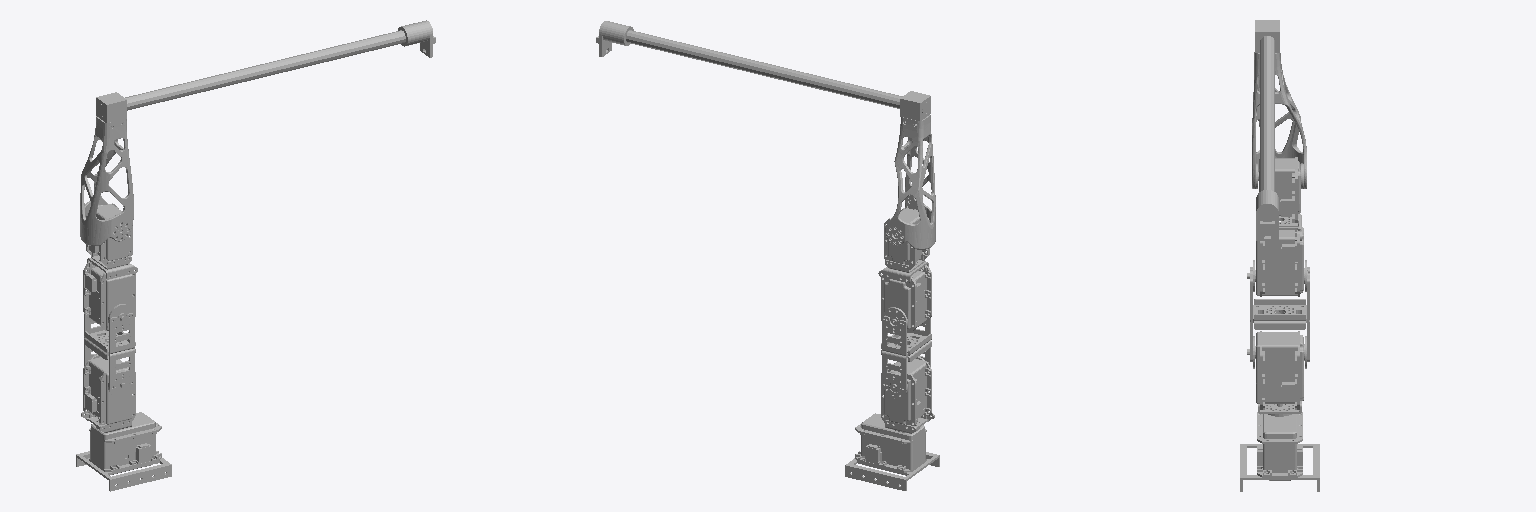
The robot description file, URDF, robot "arm_hit":
<robot
  name="arm_hit">
  <link
    name="base">
    <inertial>
      <origin
        xyz="0.01588 3.1806E-06 -0.028164"
        rpy="0 0 0" />
      <mass
        value="0.17459" />
      <inertia
        ixx="8.5226E-06"
        ixy="8.4436E-11"
        ixz="4.9378E-07"
        iyy="8.5512E-06"
        iyz="-1.4574E-09"
        izz="2.8609E-08" />
    </inertial>
    <visual>
      <origin
        xyz="0 0 0"
        rpy="0 0 0" />
      <geometry>
        <mesh
          filename="package://arm_hit/meshes/base.STL" />
      </geometry>
      <material
        name="">
        <color
          rgba="0.75294 0.75294 0.75294 1" />
      </material>
    </visual>
    <collision>
      <origin
        xyz="0 0 0"
        rpy="0 0 0" />
      <geometry>
        <mesh
          filename="package://arm_hit/meshes/base.STL" />
      </geometry>
    </collision>
  </link>
  <link
    name="shoulder">
    <inertial>
      <origin
        xyz="-6.0765E-05 0.00021493 -0.016589"
        rpy="0 0 0" />
      <mass
        value="0.13726" />
      <inertia
        ixx="1.1177E-05"
        ixy="-1.8757E-09"
        ixz="-2.7364E-07"
        iyy="9.2082E-06"
        iyz="-1.3785E-06"
        izz="1.9865E-06" />
    </inertial>
    <visual>
      <origin
        xyz="0 0 0"
        rpy="0 0 0" />
      <geometry>
        <mesh
          filename="package://arm_hit/meshes/shoulder.STL" />
      </geometry>
      <material
        name="">
        <color
          rgba="0.75294 0.75294 0.75294 1" />
      </material>
    </visual>
    <collision>
      <origin
        xyz="0 0 0"
        rpy="0 0 0" />
      <geometry>
        <mesh
          filename="package://arm_hit/meshes/shoulder.STL" />
      </geometry>
    </collision>
  </link>
  <joint
    name="j_shoulder"
    type="revolute">
    <origin
      xyz="0 1E-05 0.052"
      rpy="-5.6285E-14 6.7794E-15 3.3477E-14" />
    <parent
      link="base" />
    <child
      link="shoulder" />
    <axis
      xyz="0 0 1" />
    <limit
      effort="0"
      velocity="0" />
  </joint>
  <link
    name="elbow">
    <inertial>
      <origin
        xyz="-4.6144E-15 -7.9797E-17 0.036"
        rpy="0 0 0" />
      <mass
        value="0.035763" />
      <inertia
        ixx="3.8448E-06"
        ixy="-3.501E-31"
        ixz="4.7946E-19"
        iyy="3.8448E-06"
        iyz="2.8076E-18"
        izz="2.1099E-30" />
    </inertial>
    <visual>
      <origin
        xyz="0 0 0"
        rpy="0 0 0" />
      <geometry>
        <mesh
          filename="package://arm_hit/meshes/elbow.STL" />
      </geometry>
      <material
        name="">
        <color
          rgba="0.75294 0.75294 0.75294 1" />
      </material>
    </visual>
    <collision>
      <origin
        xyz="0 0 0"
        rpy="0 0 0" />
      <geometry>
        <mesh
          filename="package://arm_hit/meshes/elbow.STL" />
      </geometry>
    </collision>
  </link>
  <joint
    name="j_elbow"
    type="revolute">
    <origin
      xyz="0 -1E-05 0"
      rpy="6.1701E-14 1.1357E-13 -1.486E-14" />
    <parent
      link="shoulder" />
    <child
      link="elbow" />
    <axis
      xyz="0 1 0" />
    <limit
      effort="0"
      velocity="0" />
  </joint>
  <link
    name="wrist">
    <inertial>
      <origin
        xyz="-3.7123E-05 0.00015978 0.04"
        rpy="0 0 0" />
      <mass
        value="0.21454" />
      <inertia
        ixx="0.00022441"
        ixy="3.6611E-11"
        ixz="6.8193E-07"
        iyy="0.00022139"
        iyz="1.8251E-06"
        izz="3.0552E-06" />
    </inertial>
    <visual>
      <origin
        xyz="0 0 0"
        rpy="0 0 0" />
      <geometry>
        <mesh
          filename="package://arm_hit/meshes/wrist.STL" />
      </geometry>
      <material
        name="">
        <color
          rgba="0.75294 0.75294 0.75294 1" />
      </material>
    </visual>
    <collision>
      <origin
        xyz="0 0 0"
        rpy="0 0 0" />
      <geometry>
        <mesh
          filename="package://arm_hit/meshes/wrist.STL" />
      </geometry>
    </collision>
  </link>
  <joint
    name="j_wrist"
    type="revolute">
    <origin
      xyz="0 0 0.072"
      rpy="-1.7843E-14 -1.2527E-13 -4.2783E-16" />
    <parent
      link="elbow" />
    <child
      link="wrist" />
    <axis
      xyz="0 -1 0" />
    <limit
      effort="0"
      velocity="0" />
  </joint>
  <link
    name="hand">
    <inertial>
      <origin
        xyz="0.0700376916987259 -0.00737936976936427 0.085288403357394"
        rpy="0 0 0" />
      <mass
        value="0.0544150072506461" />
      <inertia
        ixx="8.35267811081533E-05"
        ixy="1.28779381192876E-05"
        ixz="-0.000184166373288079"
        iyy="0.00101182776736254"
        iyz="5.98447752665033E-06"
        izz="0.000929165021622506" />
    </inertial>
    <visual>
      <origin
        xyz="0 0 0"
        rpy="0 0 0" />
      <geometry>
        <mesh
          filename="package://arm_hit/meshes/hand.STL" />
      </geometry>
      <material
        name="">
        <color
          rgba="0.752941176470588 0.752941176470588 0.752941176470588 1" />
      </material>
    </visual>
    <collision>
      <origin
        xyz="0 0 0"
        rpy="0 0 0" />
      <geometry>
        <mesh
          filename="package://arm_hit/meshes/hand.STL" />
      </geometry>
    </collision>
  </link>
  <joint
    name="j_hand"
    type="revolute">
    <origin
      xyz="-0.00025 -0.00031 0.09408"
      rpy="-1.656E-14 -3.9282E-14 1.6801E-14" />
    <parent
      link="wrist" />
    <child
      link="hand" />
    <axis
      xyz="0 1 0" />
    <limit
      effort="0"
      velocity="0" />
  </joint>
</robot>

--- Render facts (derived) ---
The picture shows the robot from 3 angles, left to right: view 1: azimuth 30°, elevation 25°; view 2: azimuth 150°, elevation 25°; view 3: azimuth 270°, elevation 25°; orthographic projection.
Model arm_hit with 5 links and 4 joints (4 revolute), rooted at base, posed all joints at 0.
Links seen in each view (by area): view 1: hand, wrist, base, shoulder, elbow; view 2: hand, base, wrist, shoulder, elbow; view 3: hand, wrist, shoulder, base, elbow.
Boxes of the visible links, bbox=[...] form: hand: bbox=[80, 20, 435, 245]; wrist: bbox=[83, 203, 137, 330]; base: bbox=[76, 412, 171, 491]; shoulder: bbox=[81, 354, 135, 432]; elbow: bbox=[84, 310, 135, 389]; hand: bbox=[596, 21, 935, 249]; base: bbox=[845, 413, 939, 490]; wrist: bbox=[878, 208, 931, 332]; shoulder: bbox=[881, 356, 934, 433]; elbow: bbox=[881, 316, 931, 391]; hand: bbox=[1252, 20, 1306, 240]; wrist: bbox=[1247, 157, 1309, 296]; shoulder: bbox=[1247, 331, 1306, 413]; base: bbox=[1240, 404, 1319, 491]; elbow: bbox=[1250, 267, 1309, 361].
Bounding box of the posed robot: 0.3903 × 0.068 × 0.4138 m (x, y, z).
Meshes: 5 distinct files referenced, 5 mesh visuals loaded (5 binary STL).